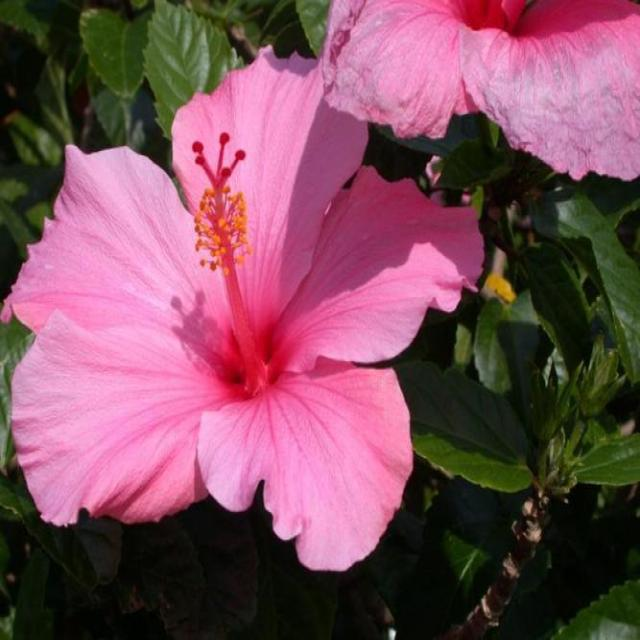hibiscus: (0, 0, 490, 624)
